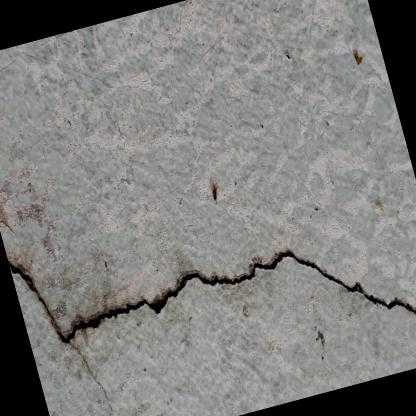crack: (6, 246, 416, 345)
